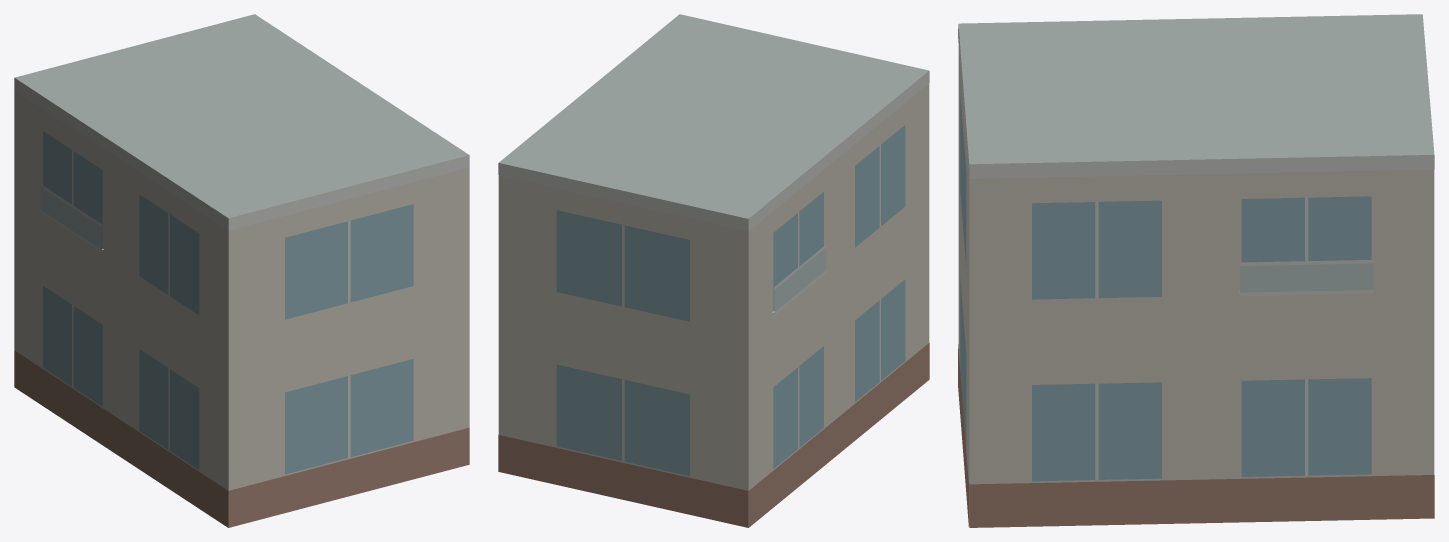
The model's file is survey-upis-32635183.glb.
The picture shows the model from 3 angles, left to right: view 1: azimuth 30°, elevation 25°; view 2: azimuth 150°, elevation 25°; view 3: azimuth 270°, elevation 25°; orthographic projection. The views are drawn at different scales.
Parts seen in each view (by area): view 1: survey-upis-32635183.tmp; view 2: survey-upis-32635183.tmp; view 3: survey-upis-32635183.tmp.
Part boxes in pixels (x1,y1,x2,y2): survey-upis-32635183.tmp: (14,14,469,527); survey-upis-32635183.tmp: (498,14,929,527); survey-upis-32635183.tmp: (958,14,1434,527).
Bounding box in the file's own units: 5.42 × 6.1 × 7.25.
